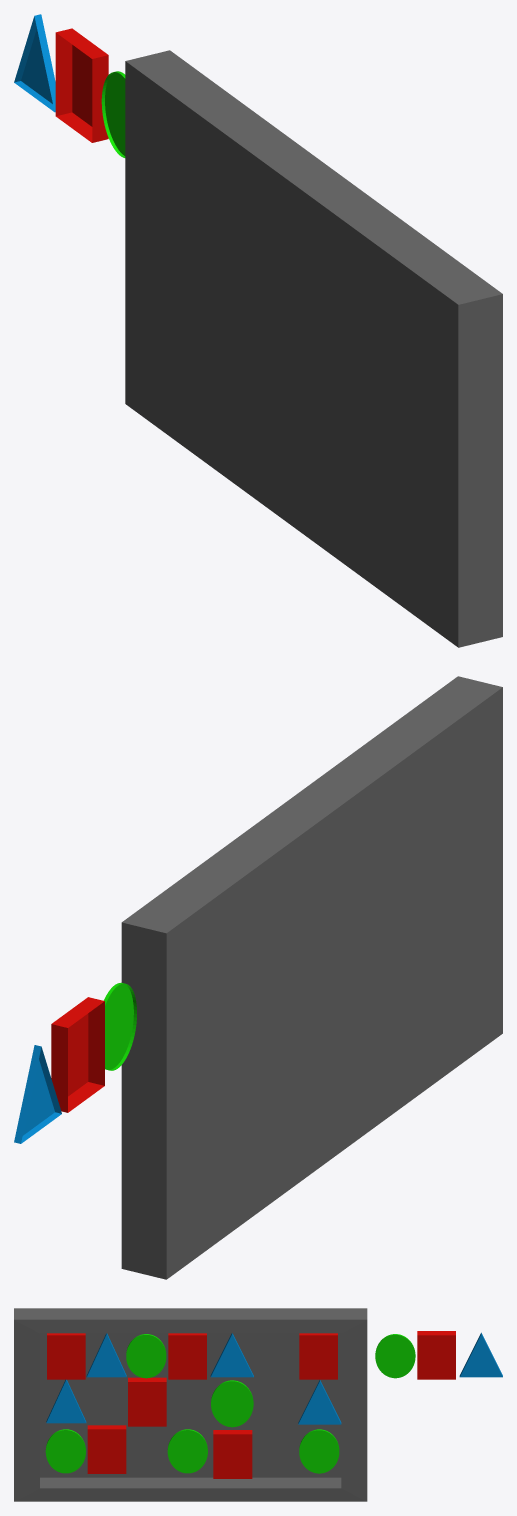
Rendered from Mozaic 1.fbx.
The picture shows the model from 3 angles, top to bottom: view 1: azimuth 30°, elevation 25°; view 2: azimuth 150°, elevation 25°; view 3: azimuth 270°, elevation 25°; orthographic projection. The views are drawn at different scales.
Parts seen in each view (by area): view 1: Cube.015, Cube.020, Cube.019, Cube.021; view 2: Cube.015, Cube.020, Cube.019, Cube.021; view 3: Cube.015, Cube.020, Cube.021, Cube.019.
Boxes of the visible parts, x1,y1,x2,y2 form: Cube.015: [125, 50, 502, 647]; Cube.020: [55, 28, 108, 142]; Cube.019: [14, 14, 55, 112]; Cube.021: [101, 71, 125, 157]; Cube.015: [121, 676, 502, 1279]; Cube.020: [51, 997, 104, 1112]; Cube.019: [14, 1045, 61, 1143]; Cube.021: [103, 982, 136, 1070]; Cube.015: [14, 1308, 367, 1501]; Cube.020: [417, 1331, 455, 1379]; Cube.021: [375, 1334, 415, 1378]; Cube.019: [459, 1332, 502, 1377].
Bounding box in the file's own units: 46.79 × 339 × 827.
